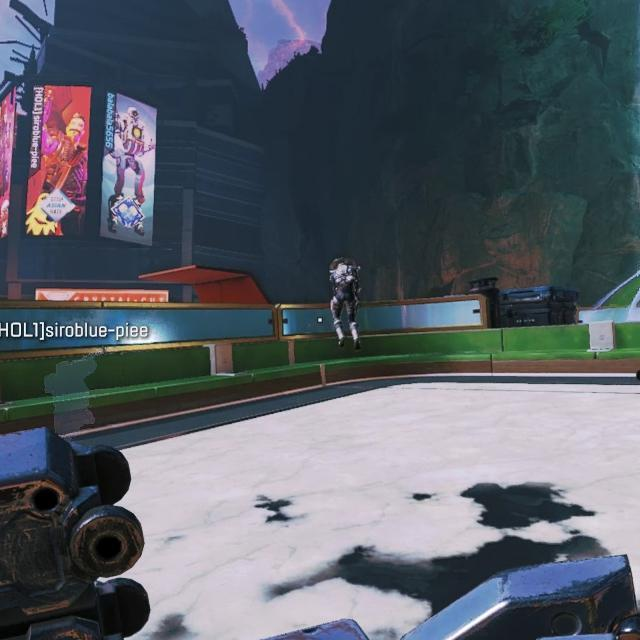avatar: (328, 258, 364, 346)
